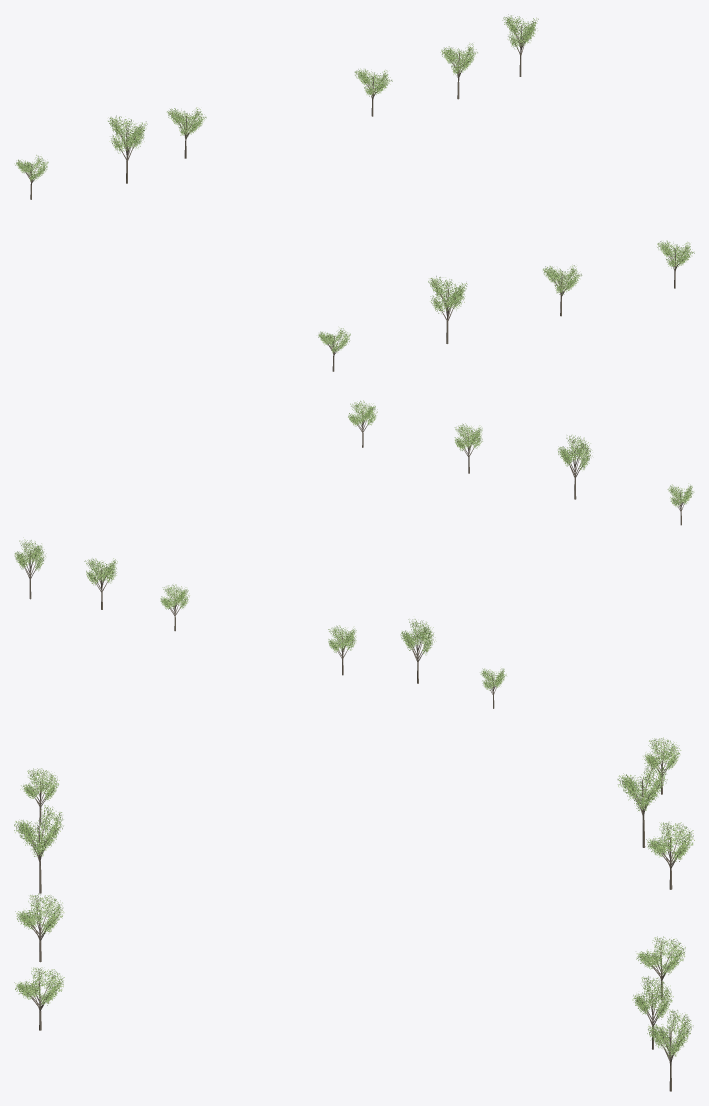
File: 20261103-public-planting-3.glb
3 views of the same model, one above another, from view 1: azimuth 30°, elevation 25°; view 2: azimuth 150°, elevation 25°; view 3: azimuth 270°, elevation 25° (orthographic). The views are drawn at different scales.
Bounding box in the file's own units: 82.52 × 9.95 × 75.6.
